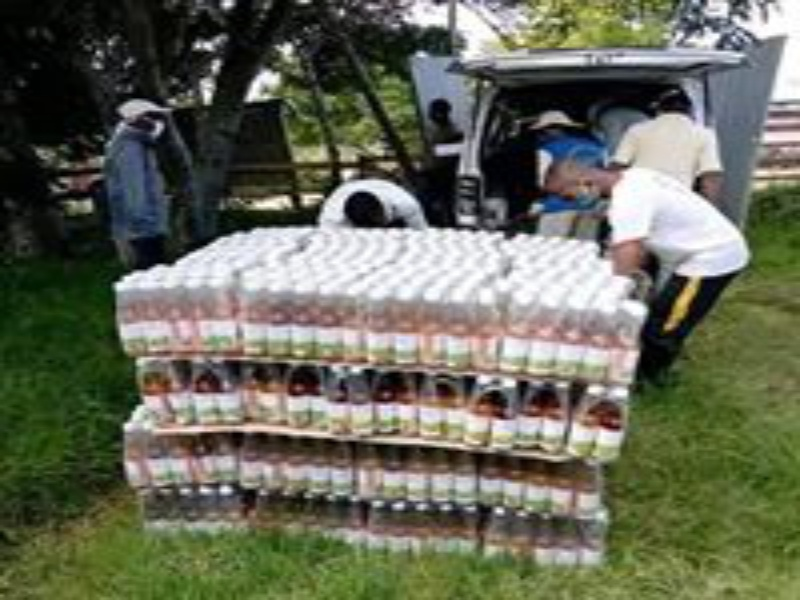ManaoArotava: (136, 96, 173, 148)
